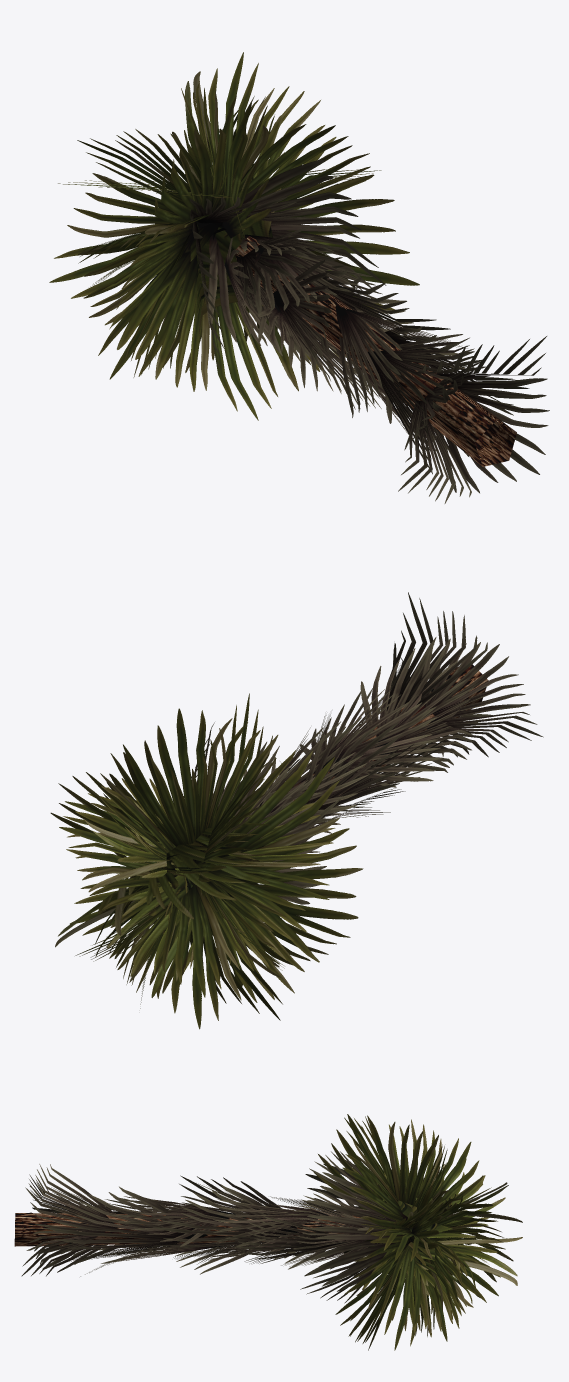
Rendered from MEP_Pandani_05.fbx.
The picture shows the model from 3 angles, top to bottom: view 1: azimuth 30°, elevation 25°; view 2: azimuth 150°, elevation 25°; view 3: azimuth 270°, elevation 25°; orthographic projection. The views are drawn at different scales.
Visible parts, largest first — view 1: MEP_Pandani_05, Pandani_Bark_01; view 2: MEP_Pandani_05, Pandani_Bark_01; view 3: MEP_Pandani_05, Pandani_Bark_01.
Part boxes in pixels (<box>): MEP_Pandani_05: <box>49,52,549,503</box>; Pandani_Bark_01: <box>235,236,516,466</box>; MEP_Pandani_05: <box>50,592,543,1029</box>; Pandani_Bark_01: <box>293,664,488,800</box>; MEP_Pandani_05: <box>21,1114,522,1350</box>; Pandani_Bark_01: <box>14,1213,360,1246</box>.
Size of the model in its own units: 3.83 by 3.98 by 7.49.
